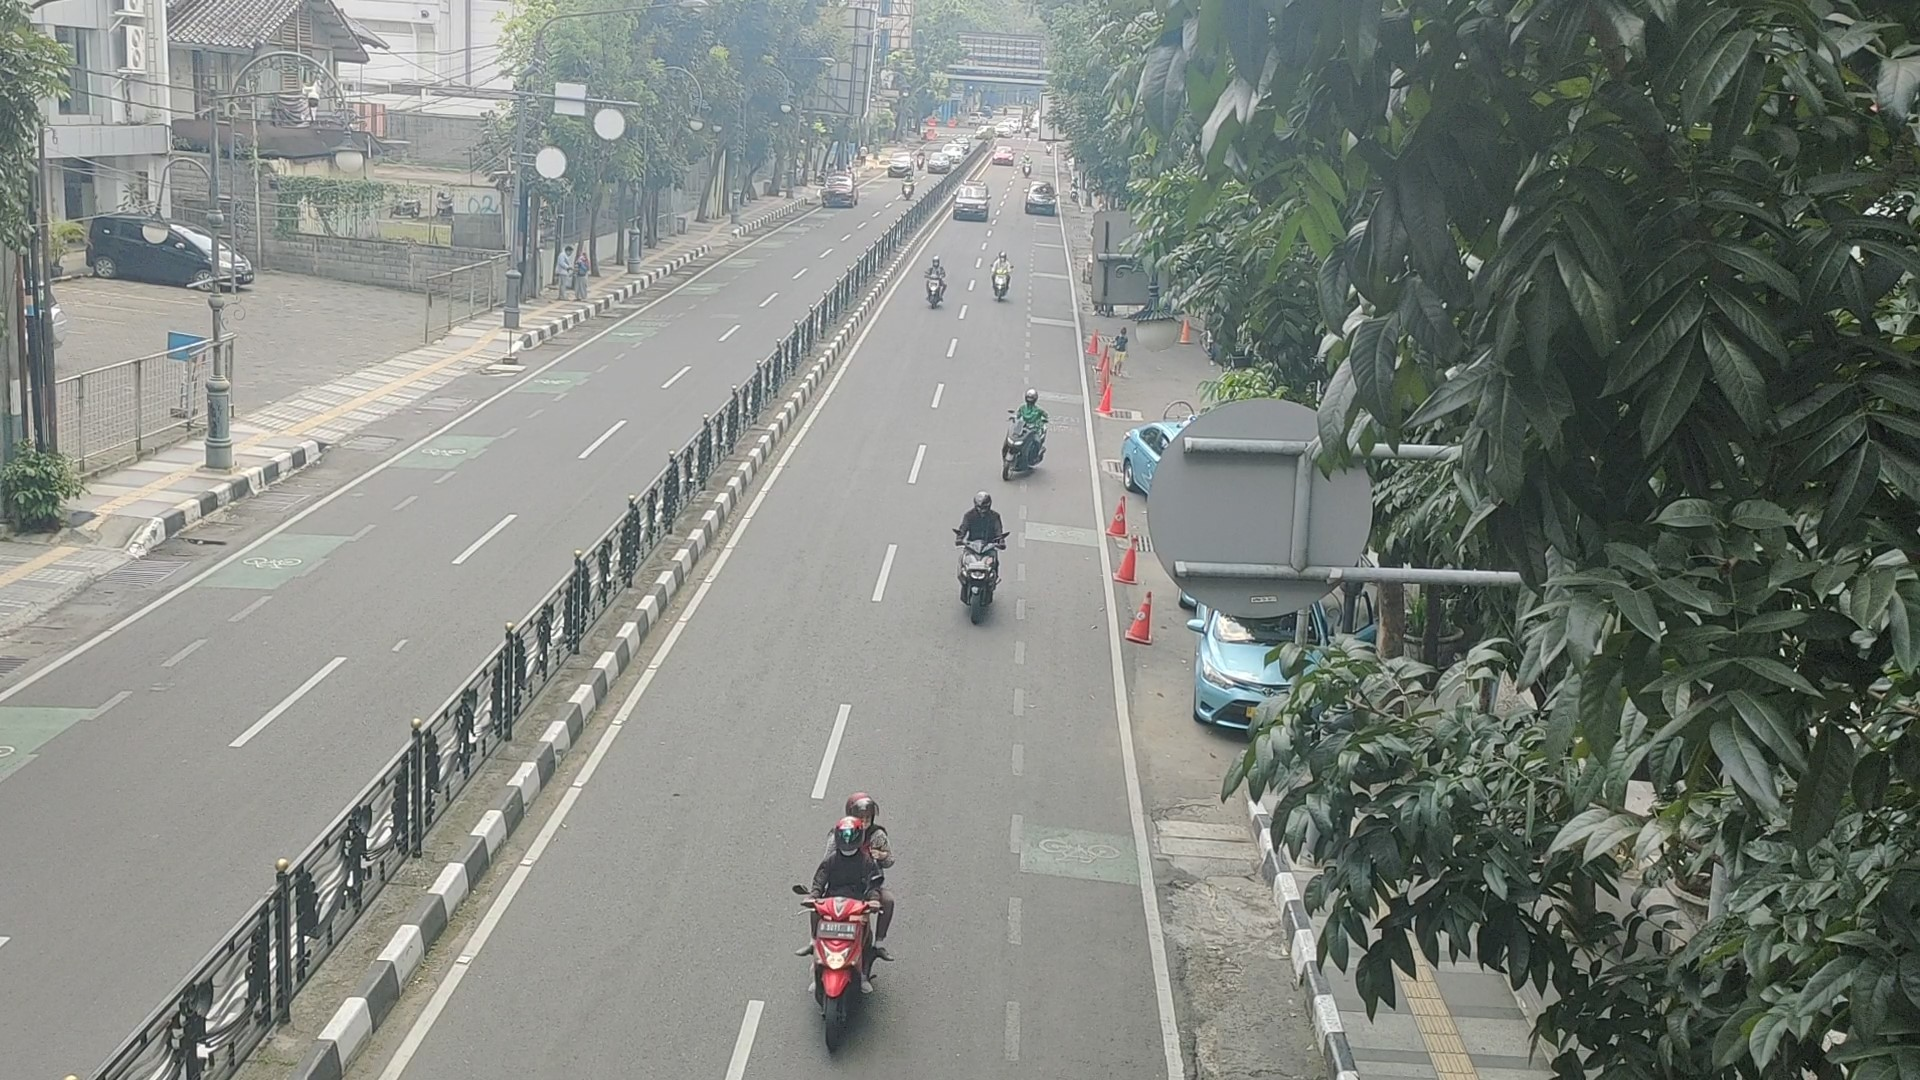mobil: (951, 179, 988, 223), (822, 173, 858, 208), (1025, 178, 1055, 218)
motor: (787, 785, 901, 1069), (951, 487, 1007, 629), (998, 385, 1051, 492), (918, 247, 949, 315), (984, 247, 1014, 311), (898, 169, 920, 199)
